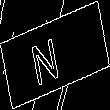N_N: (38, 25, 72, 85)
